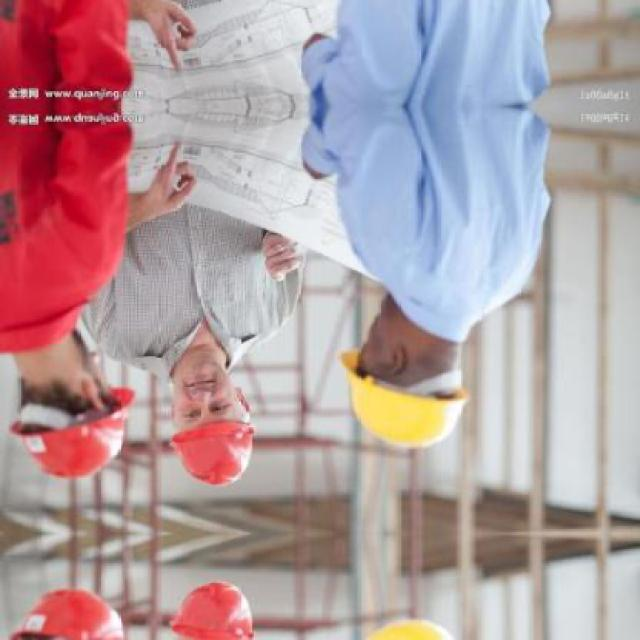con casco: (324, 353, 486, 487), (24, 378, 139, 487), (153, 397, 268, 487)
